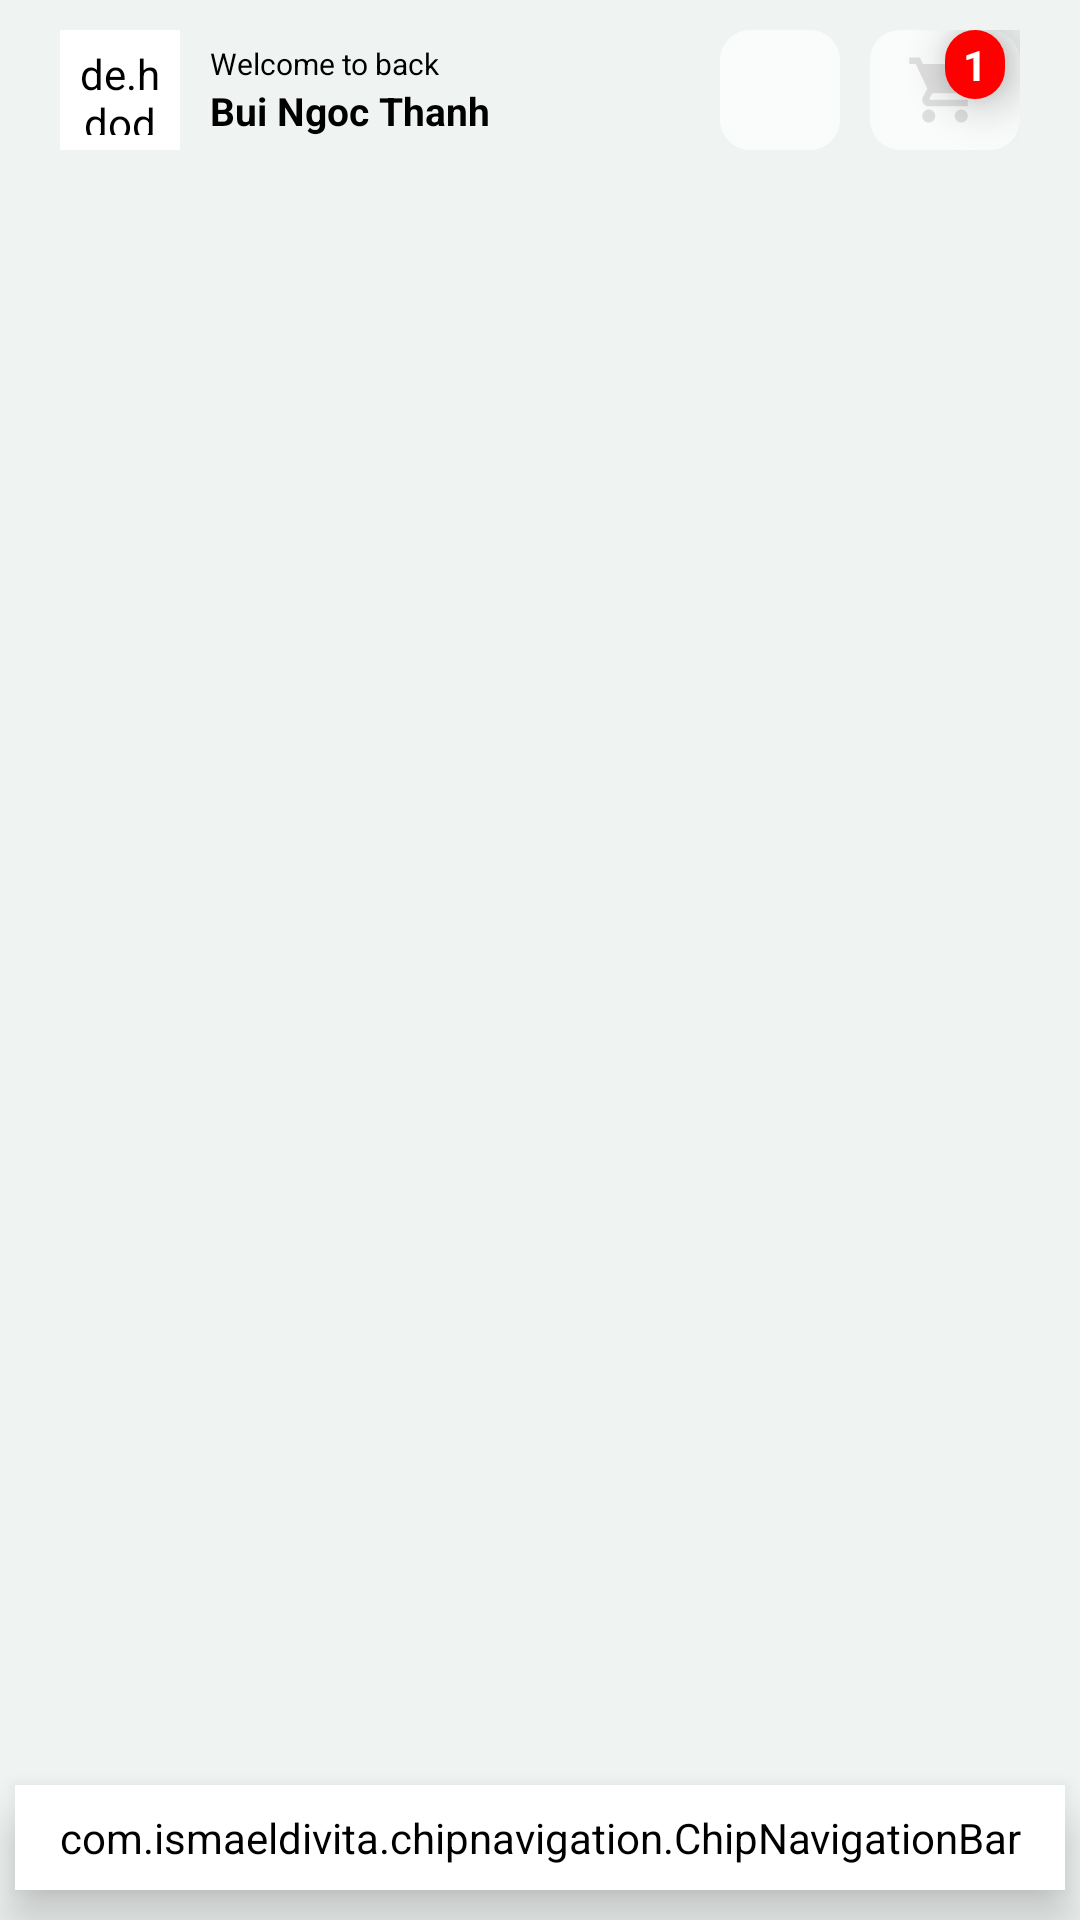

Screen size 1080w x 1920h. Icon name, then its box in pixels as [x1,y1,x2,y2]:
shopping cart: [921,30,1005,122]
